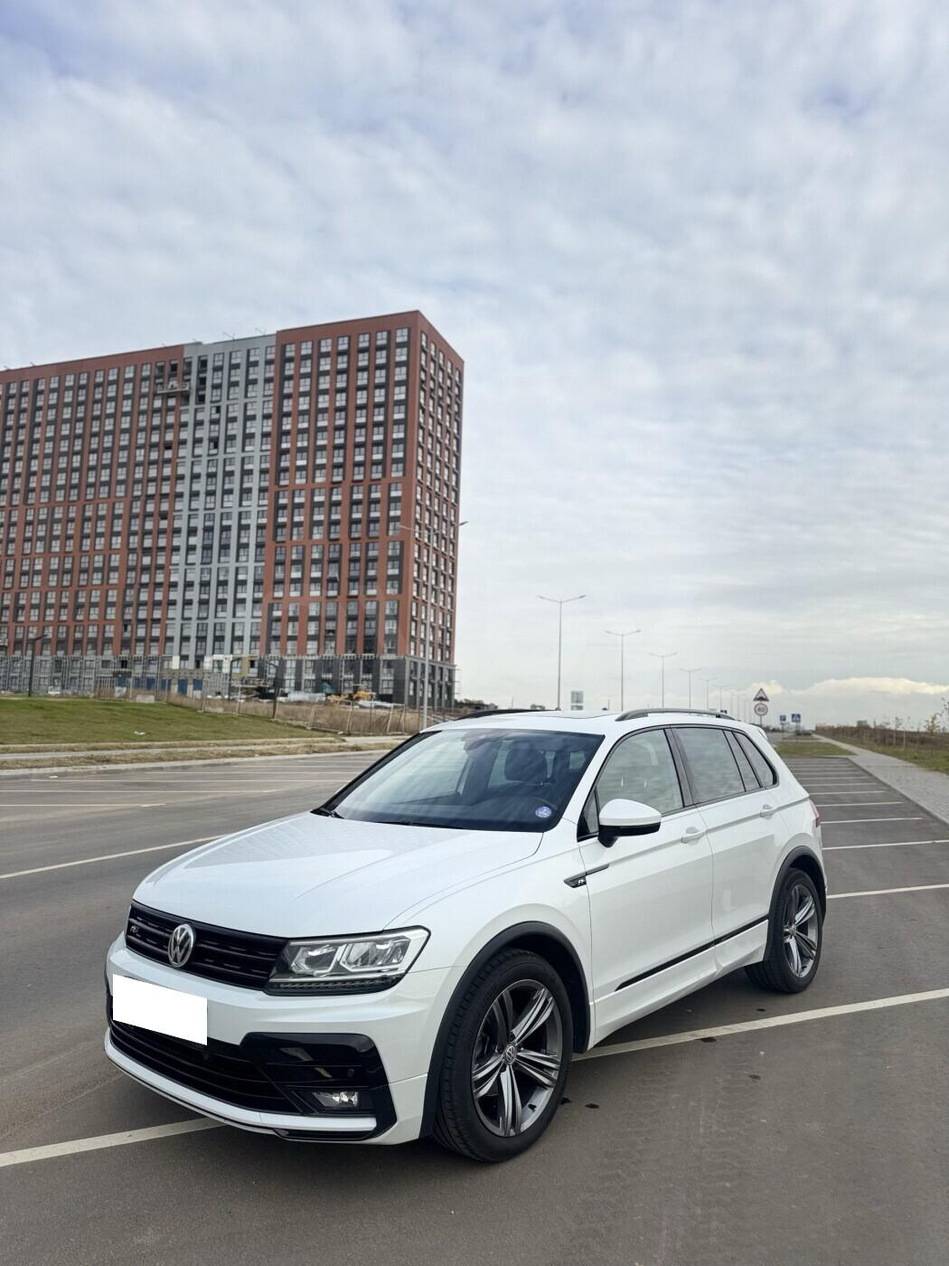Tiguan_2016-2021: (108, 705, 830, 1161)
